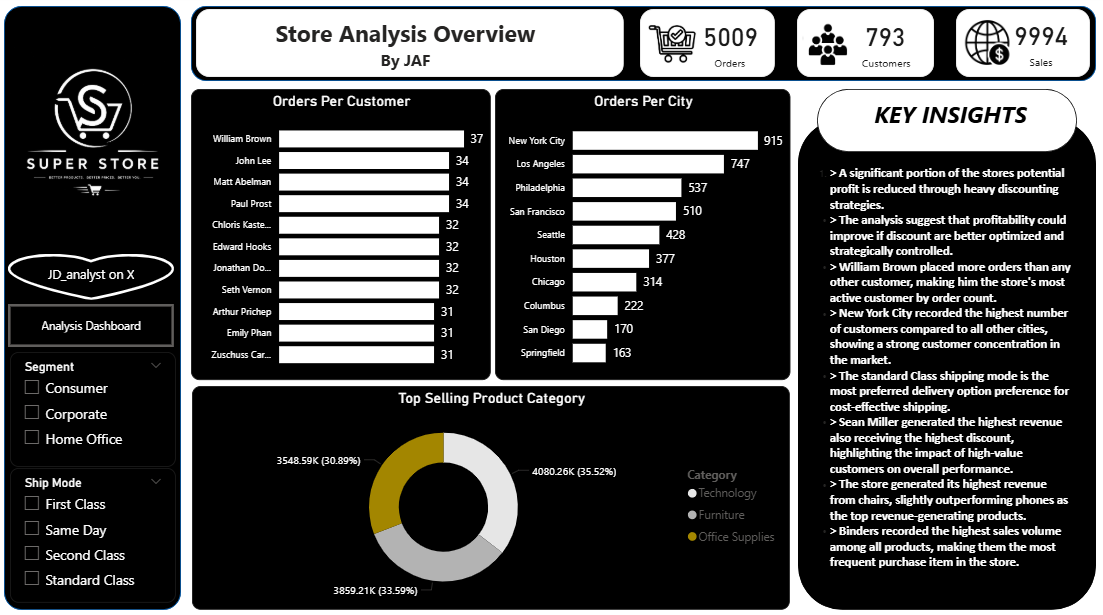

The page's visual inventory and layout, read from the dashboard file:
{"tool":"powerbi","page":{"name":"Overview","canvas":[1280,720],"ordinal":1},"visuals":[{"type":"shape","box":[8.1,12.7,204.9,699.2],"z":0},{"type":"clusteredBarChart","title":"Orders Per City","fields":{"Category":["Store Dataset.City"],"Y":["Store Dataset.Total Orders"]},"box":[577,109.2,341.8,336.7],"z":1000},{"type":"donutChart","title":"Top Selling Product  Category","fields":{"Category":["Store Dataset.Category"],"Y":["Sum(Store Dataset.Revenue)"]},"box":[225.7,452.6,692.2,259.3],"z":2000},{"type":"shape","box":[224.6,12.7,1047.6,86.8],"z":3000},{"type":"shape","box":[1110.3,16.2,155.1,78.7],"z":4000},{"type":"shape","box":[926.2,16.2,158.6,78.7],"z":5000},{"type":"shape","box":[744.5,16.2,156.3,78.7],"z":6000},{"type":"card","fields":{"Values":["Store Dataset.Unique Order"]},"box":[804.5,22,88,66],"z":7000},{"type":"card","fields":{"Values":["CountNonNull(Store Dataset.Sales)"]},"box":[1163.3,20.8,90.3,67.1],"z":8000},{"type":"card","fields":{"Values":["Store Dataset.Total Customer"]},"box":[977.8,22,99.5,66],"z":9000},{"type":"slicer","fields":{"Values":["Store Dataset.Ship Mode"]},"box":[15,547.5,192.2,156.3],"z":10000},{"type":"slicer","fields":{"Values":["Store Dataset.Segment"]},"box":[15,413.2,192.2,133.1],"z":11000},{"type":"actionButton","box":[12.7,357.7,192.2,49.8],"z":12000},{"type":"shape","box":[230.4,16.2,495.4,78.7],"z":13000},{"type":"textbox","box":[238.5,20.8,468.8,88],"z":14000},{"type":"clusteredBarChart","title":" Orders Per Customer","fields":{"Category":["Store Dataset.Customer Name"],"Y":["Store Dataset.Total Orders"]},"box":[224.9,109.2,347,336.7],"z":15000},{"type":"shape","box":[927.2,143.5,345,568.4],"z":16000},{"type":"shape","box":[949.2,108.8,301,72.9],"z":17000},{"type":"textbox","box":[981.6,114.6,244.2,67.1],"z":18000},{"type":"textbox","box":[941.1,192.2,309.1,507],"z":19000},{"type":"image","box":[747.8,25.5,68.3,59],"z":20000},{"type":"image","box":[929.1,26.6,66,59],"z":21000},{"type":"image","box":[1118.2,22,57.9,67.1],"z":22000},{"type":"image","box":[11.6,22,196.8,273.2],"z":23000},{"type":"actionButton","box":[12.7,299.8,192.2,53.2],"z":24000}]}

Visuals, with their boxes in screenshot pixels (x1, y1, x2, y2), scaled from the page's 1280x720 canvas onto the 1103x615 screenshot:
shape: [x1=7, y1=11, x2=184, y2=608]
"Orders Per City" clusteredBarChart: [x1=497, y1=93, x2=792, y2=381]
"Top Selling Product  Category" donutChart: [x1=194, y1=387, x2=791, y2=608]
shape: [x1=194, y1=11, x2=1096, y2=85]
shape: [x1=957, y1=14, x2=1090, y2=81]
shape: [x1=798, y1=14, x2=935, y2=81]
shape: [x1=642, y1=14, x2=776, y2=81]
card - Store Dataset.Unique Order: [x1=693, y1=19, x2=769, y2=75]
card - CountNonNull(Store Dataset.Sales): [x1=1002, y1=18, x2=1080, y2=75]
card - Store Dataset.Total Customer: [x1=843, y1=19, x2=928, y2=75]
slicer - Store Dataset.Ship Mode: [x1=13, y1=468, x2=179, y2=601]
slicer - Store Dataset.Segment: [x1=13, y1=353, x2=179, y2=467]
actionButton: [x1=11, y1=306, x2=177, y2=348]
shape: [x1=199, y1=14, x2=625, y2=81]
textbox: [x1=206, y1=18, x2=609, y2=93]
" Orders Per Customer" clusteredBarChart: [x1=194, y1=93, x2=493, y2=381]
shape: [x1=799, y1=123, x2=1096, y2=608]
shape: [x1=818, y1=93, x2=1077, y2=155]
textbox: [x1=846, y1=98, x2=1056, y2=155]
textbox: [x1=811, y1=164, x2=1077, y2=597]
image: [x1=644, y1=22, x2=703, y2=72]
image: [x1=801, y1=23, x2=857, y2=73]
image: [x1=964, y1=19, x2=1013, y2=76]
image: [x1=10, y1=19, x2=180, y2=252]
actionButton: [x1=11, y1=256, x2=177, y2=302]
